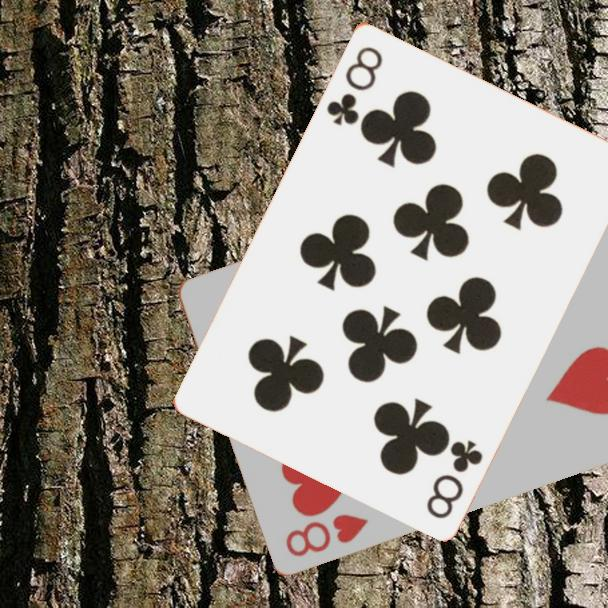c08: (322, 42, 386, 129), (422, 435, 486, 521)
h08: (282, 510, 372, 559)
